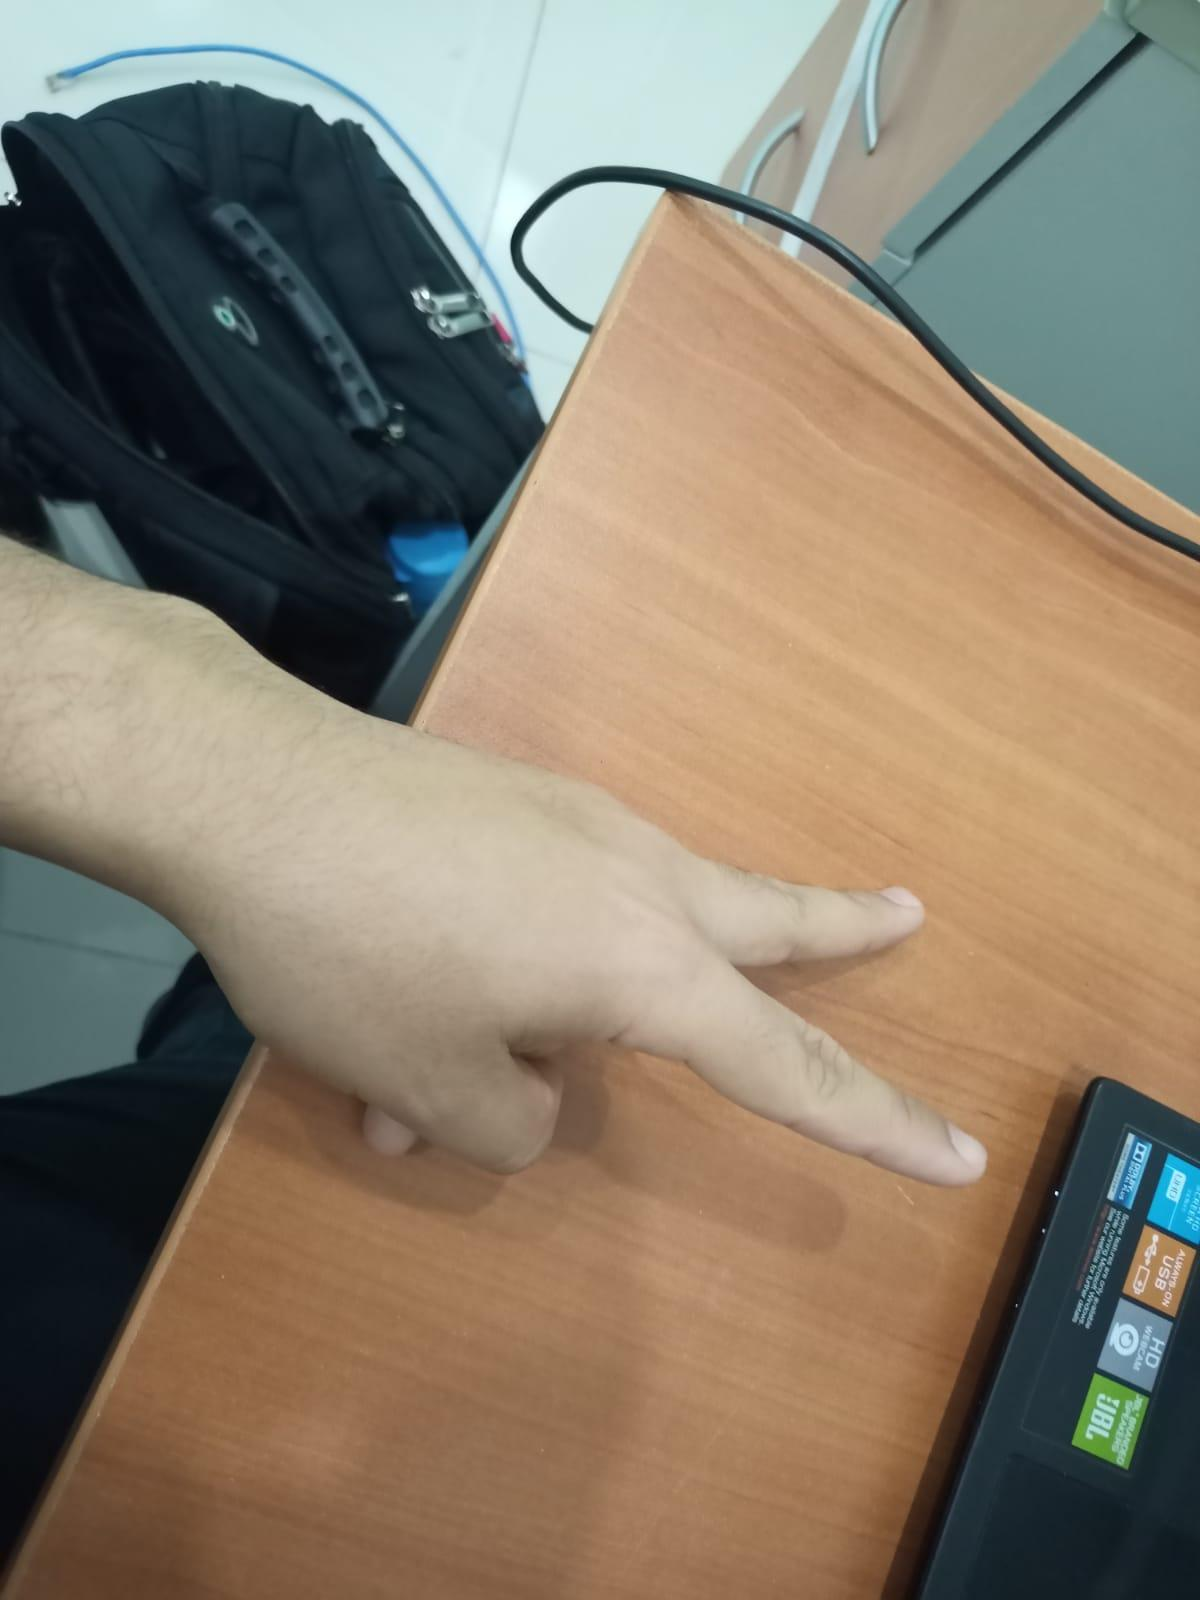Scissor: (185, 747, 1012, 1206)
